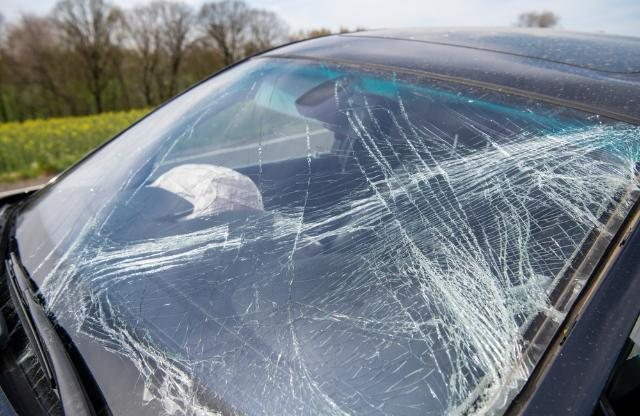glass shatter: (0, 57, 640, 416)
